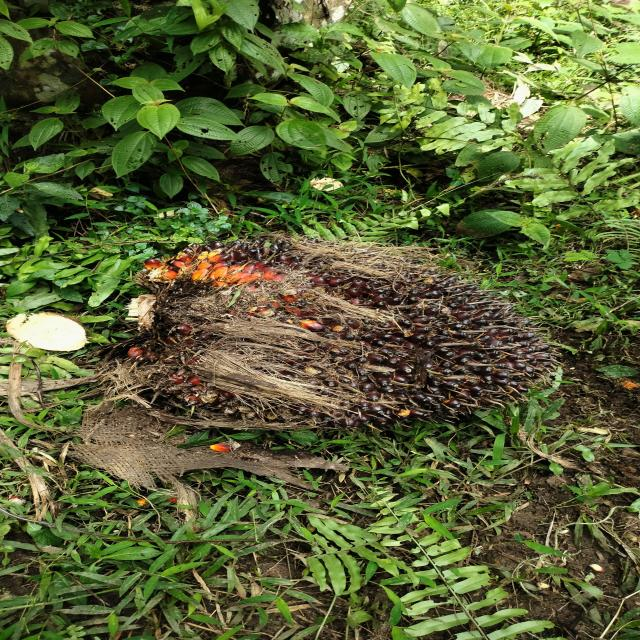fraksi 00: (113, 220, 590, 462)
